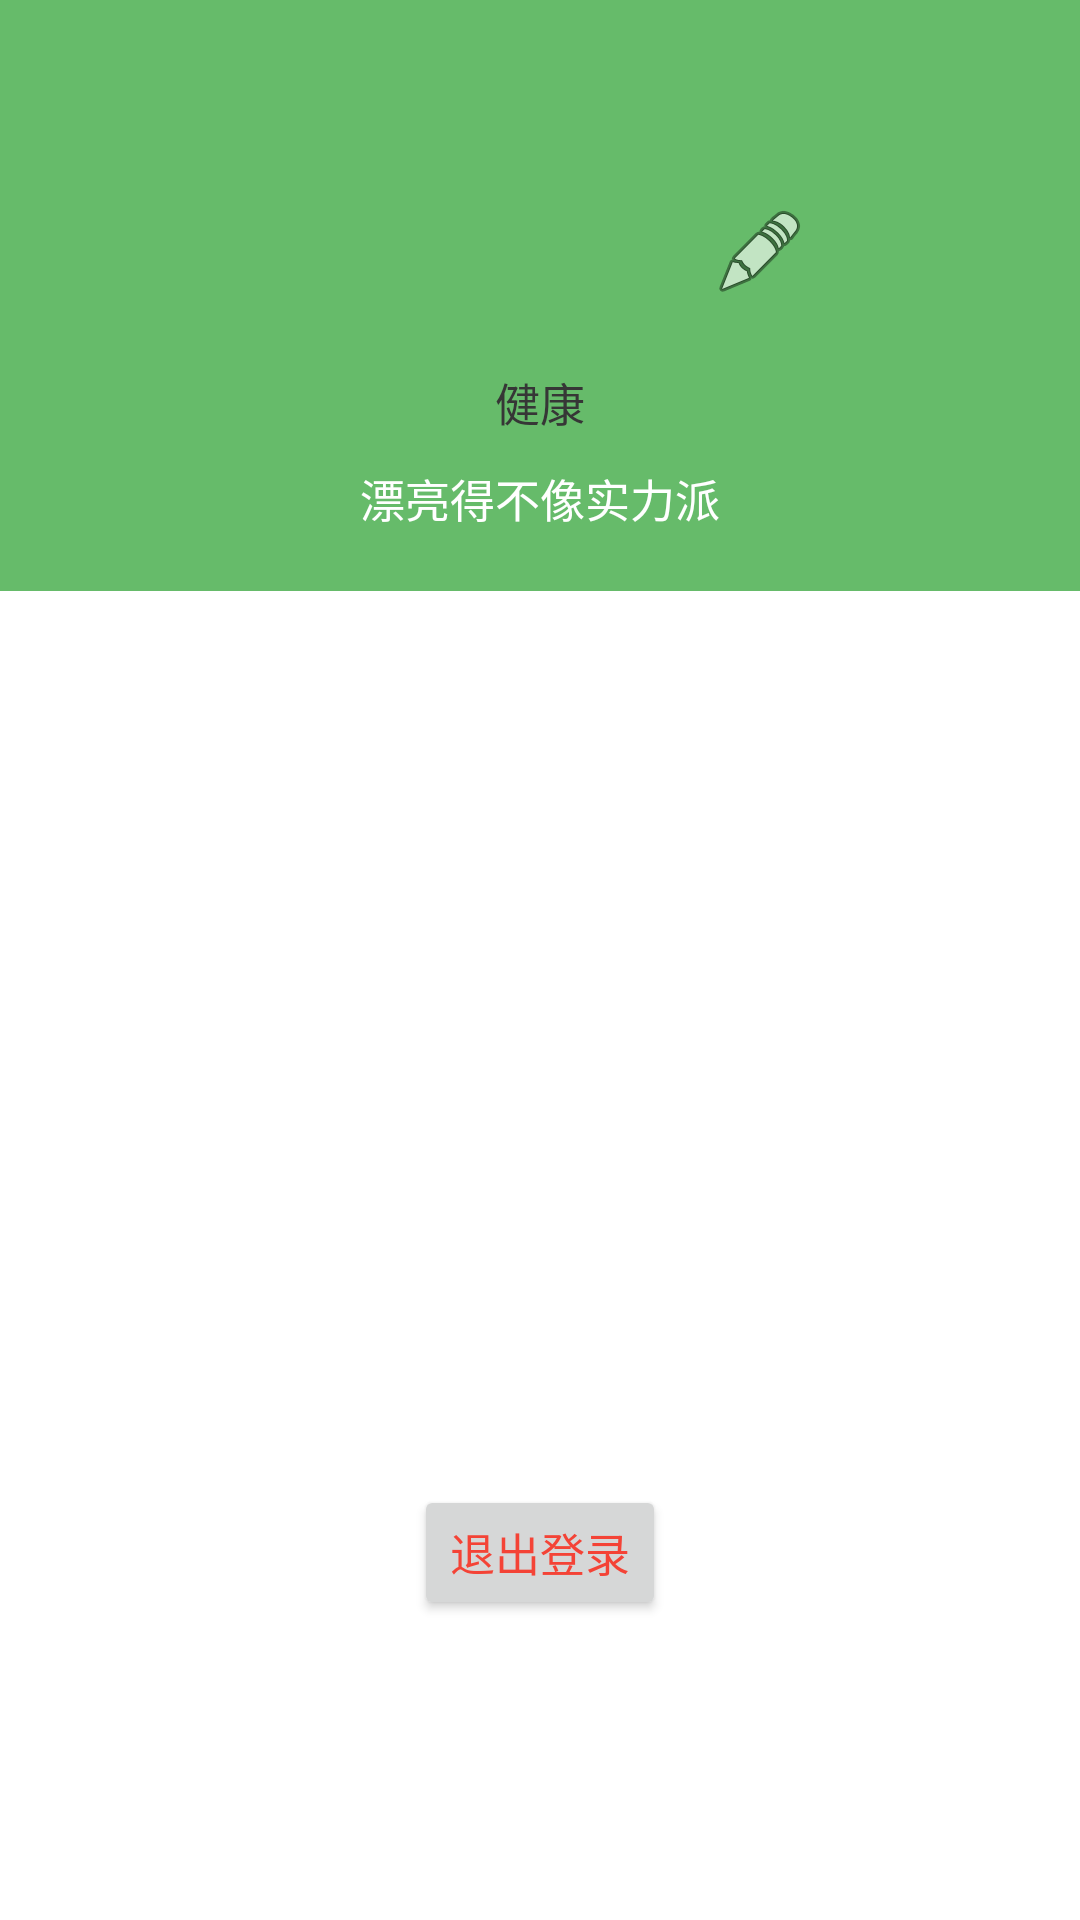

Where icons sit on this 1080w x 1920h app screen, as (x1, y1, x2, y2):
edit: (719, 211, 800, 292)
